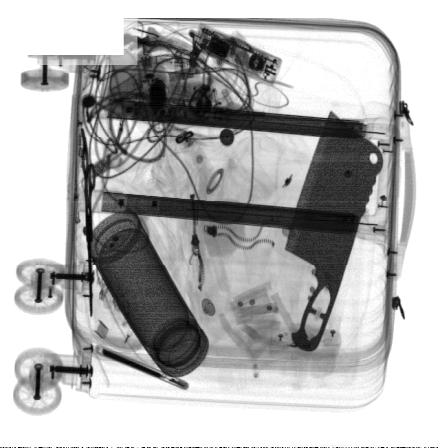Knife: (284, 111, 385, 352)
Powerbank: (94, 344, 194, 393)
Scissors: (79, 125, 96, 321)
